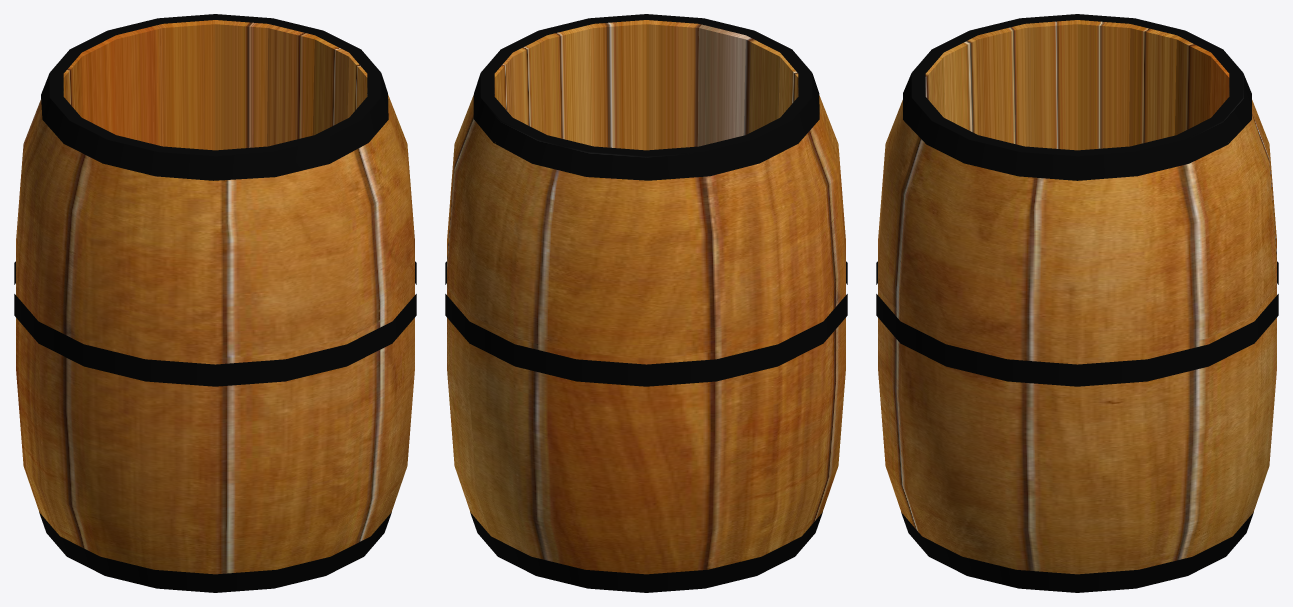
The model's file is Barrel.FBX.
3 views of the same model, side by side, from view 1: azimuth 30°, elevation 25°; view 2: azimuth 150°, elevation 25°; view 3: azimuth 270°, elevation 25° (orthographic).
Parts seen in each view (by area): view 1: Wood, Metal; view 2: Wood, Metal; view 3: Wood, Metal.
Part boxes in pixels (x1,y1,x2,y2): Wood: (16, 20, 414, 574); Metal: (14, 14, 416, 592); Wood: (447, 20, 845, 574); Metal: (445, 14, 847, 592); Wood: (878, 20, 1276, 574); Metal: (876, 14, 1278, 592).
Size of the model in its own units: 188 by 220 by 185.
2 materials, 2 textured.
